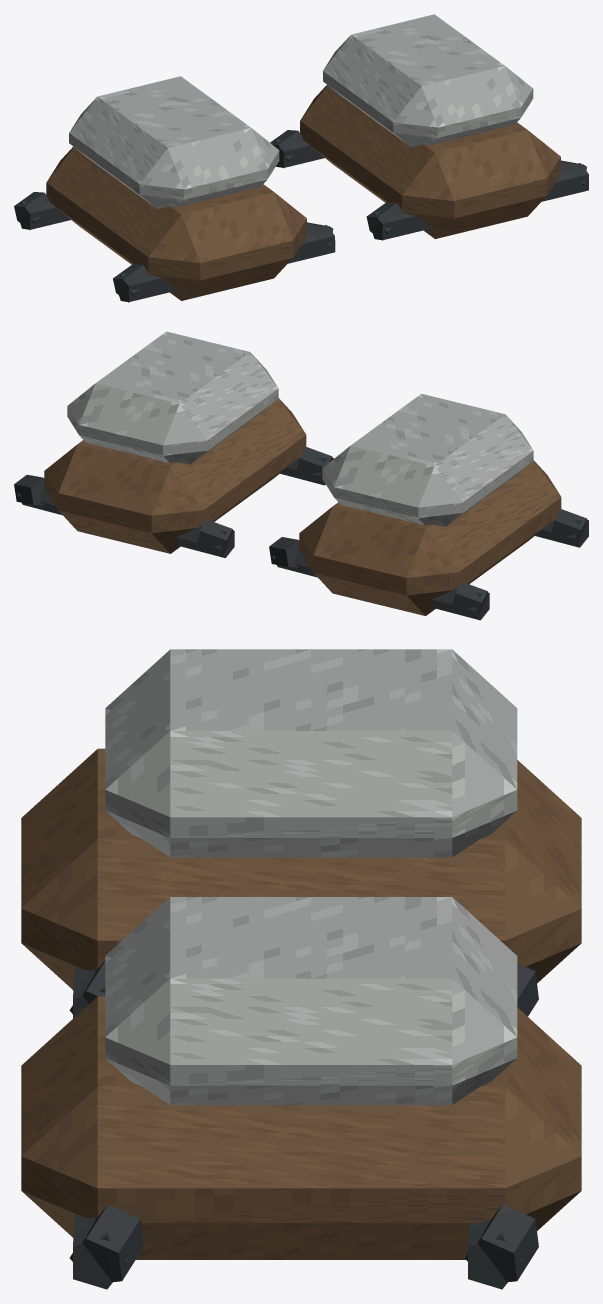
The model's file is toecaps.glb.
3 views of the same model, one above another, from view 1: azimuth 30°, elevation 25°; view 2: azimuth 150°, elevation 25°; view 3: azimuth 270°, elevation 25° (orthographic). The views are drawn at different scales.
Visible parts, largest first — view 1: block_padded backing (×2), block_shaped guard (×2), block_adjustable strap 1 (×4), block_adjustable strap 0 (×4); view 2: block_padded backing (×2), block_shaped guard (×2), block_adjustable strap 0 (×4), block_adjustable strap 1 (×3), block_adjustable strap 2 (×2); view 3: block_shaped guard (×2), block_padded backing (×2), block_adjustable strap 2 (×3), block_adjustable strap 1 (×2).
Part boxes in pixels (x1,y1,x2,y2): block_padded backing (×2): [46, 85, 560, 300]; block_shaped guard (×2): [69, 14, 533, 208]; block_adjustable strap 1 (×4): [20, 139, 588, 302]; block_adjustable strap 0 (×4): [14, 130, 403, 302]; block_padded backing (×2): [44, 398, 561, 615]; block_shaped guard (×2): [67, 331, 533, 526]; block_adjustable strap 0 (×4): [196, 447, 587, 617]; block_adjustable strap 1 (×3): [17, 478, 588, 620]; block_adjustable strap 2 (×2): [14, 474, 299, 567]; block_shaped guard (×2): [105, 649, 517, 1105]; block_padded backing (×2): [21, 748, 581, 1259]; block_adjustable strap 2 (×3): [70, 963, 538, 1282]; block_adjustable strap 1 (×2): [73, 1215, 523, 1289].
Size of the model in its own units: 0.265 by 0.0749 by 0.1374.
1 material, 1 textured.
